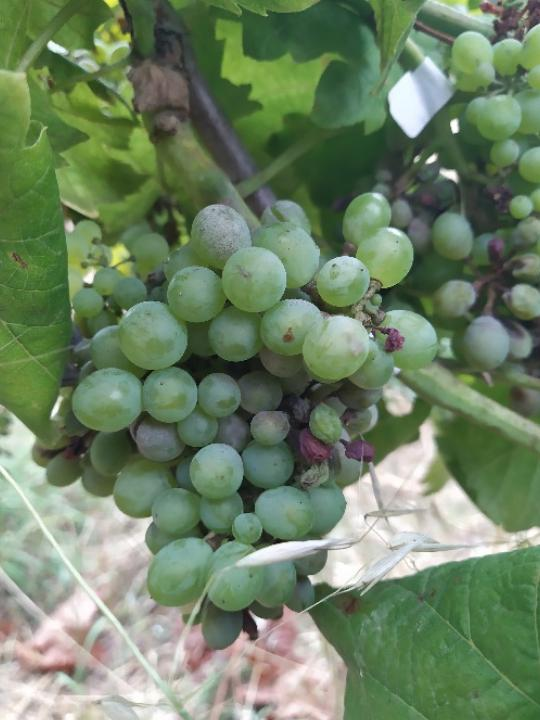grape: (67, 189, 443, 653)
